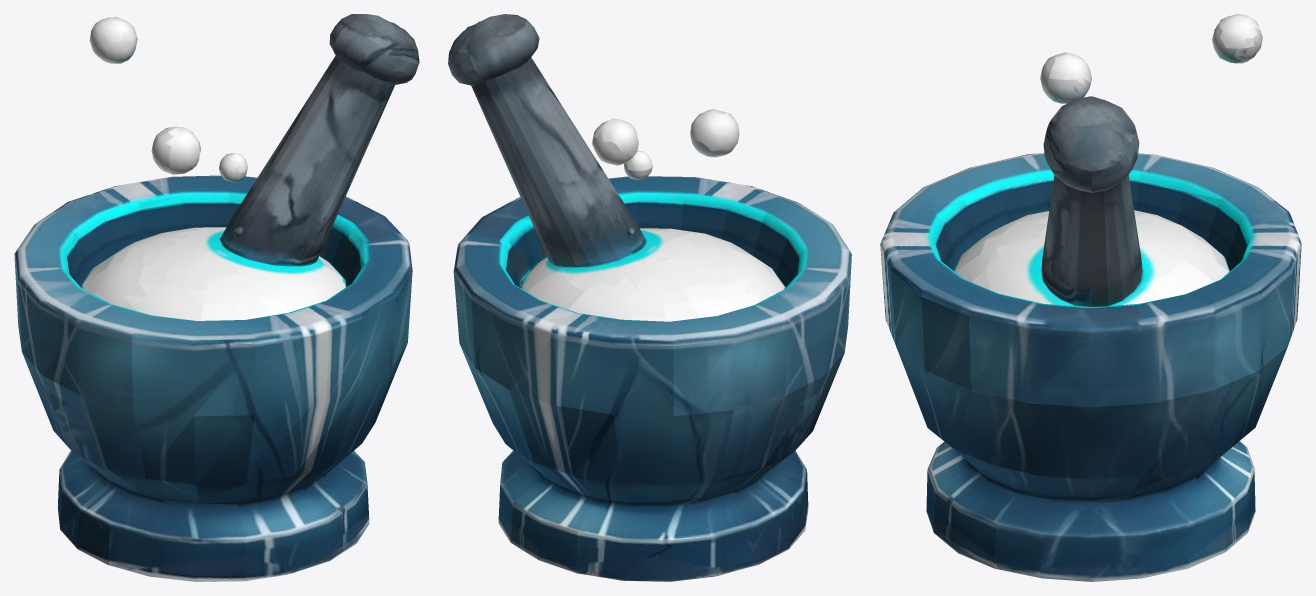
Rendered from amalgam.glb.
The picture shows the model from 3 angles, left to right: view 1: azimuth 30°, elevation 25°; view 2: azimuth 150°, elevation 25°; view 3: azimuth 270°, elevation 25°; orthographic projection. The views are drawn at different scales.
Size of the model in its own units: 0.8516 by 1 by 0.7852.
1 material, 1 textured.
